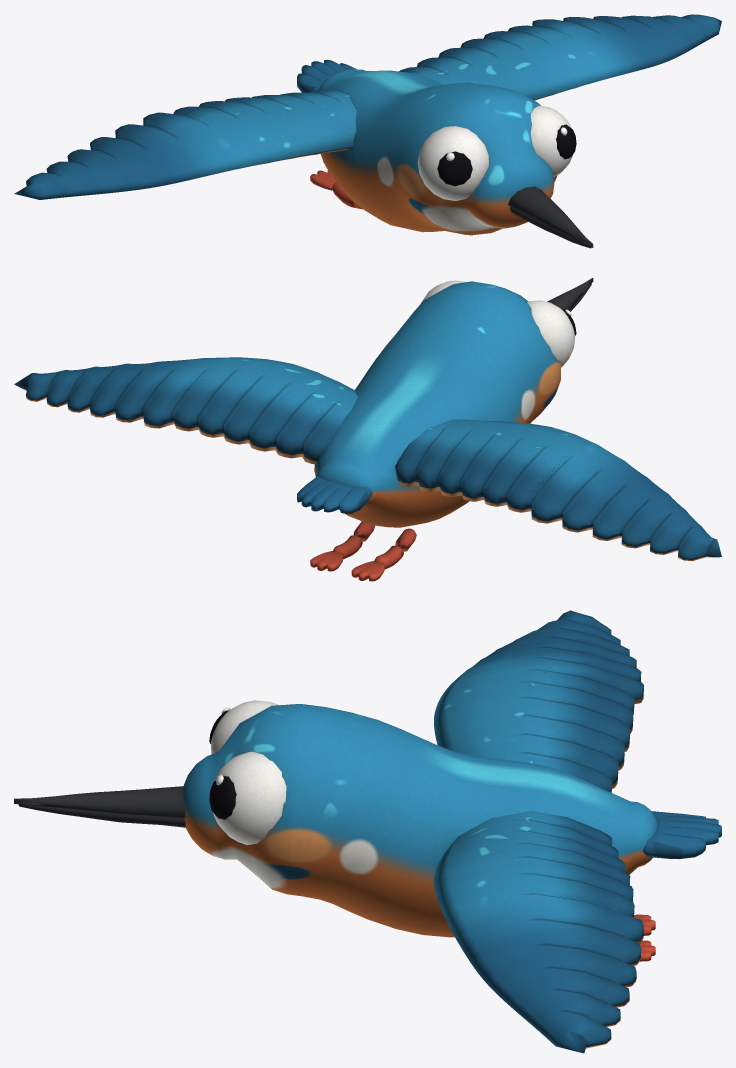
File: Ave_MartinPescador.fbx
3 renders of one model, top to bottom at view 1: azimuth 30°, elevation 25°; view 2: azimuth 150°, elevation 25°; view 3: azimuth 270°, elevation 25°, orthographic. The views are drawn at different scales.
Visible parts, largest first — view 1: Cuerpo, R_wing, L_wing; view 2: Cuerpo, R_wing, L_wing; view 3: Cuerpo, L_wing, R_wing.
Part boxes in pixels (<box>): Cuerpo: <box>297,60,593,248</box>; R_wing: <box>14,89,356,199</box>; L_wing: <box>399,14,721,100</box>; Cuerpo: <box>297,278,593,581</box>; R_wing: <box>395,419,721,561</box>; L_wing: <box>14,357,358,464</box>; Cuerpo: <box>14,700,721,961</box>; L_wing: <box>434,811,643,1053</box>; R_wing: <box>434,610,643,792</box>.
Bounding box in the file's own units: 1.71 × 0.4318 × 1.17.
Materials: 1 (1 with a texture image).
